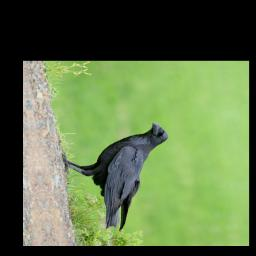Crow: (56, 121, 184, 234)
